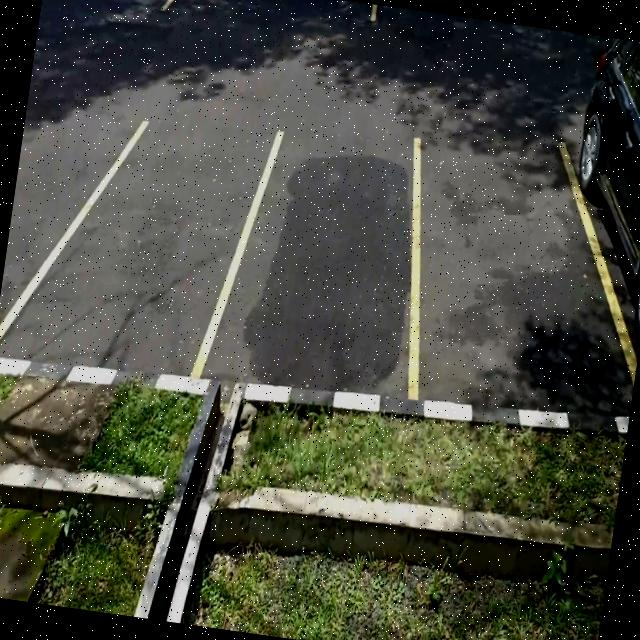empty: (394, 130, 592, 428), (228, 123, 433, 400), (54, 116, 264, 382)
